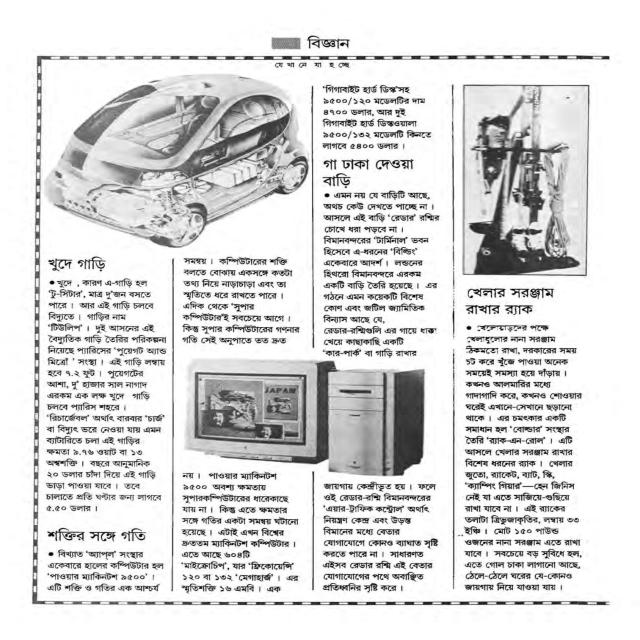image: (41, 71, 311, 250), (181, 357, 427, 477), (461, 83, 590, 277)
paragraph: (458, 324, 585, 591), (43, 277, 168, 515), (320, 188, 443, 360), (180, 469, 302, 595), (320, 480, 441, 594), (180, 255, 304, 348), (319, 84, 436, 152), (44, 547, 167, 595)
title: (320, 157, 416, 189), (463, 287, 556, 317), (44, 525, 150, 543), (46, 253, 109, 273), (304, 34, 352, 50), (272, 61, 351, 69)
